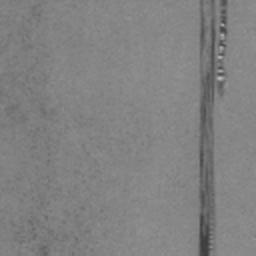Slag inclusion: (198, 0, 229, 256)
